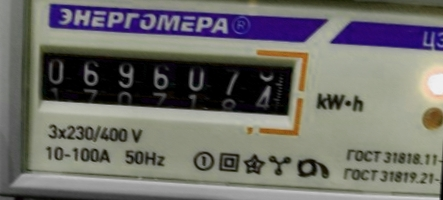0: (44, 56, 67, 87), (186, 64, 207, 94)
4: (252, 83, 272, 113)
6: (150, 62, 172, 94), (80, 58, 101, 88)
7: (221, 65, 241, 97)
9: (115, 60, 137, 91)
screen: (24, 29, 312, 139)
